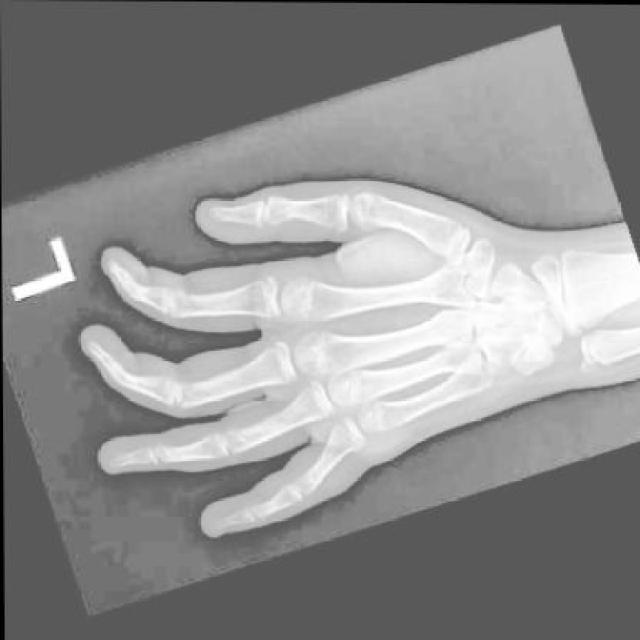Fracture: (324, 416, 358, 461)
